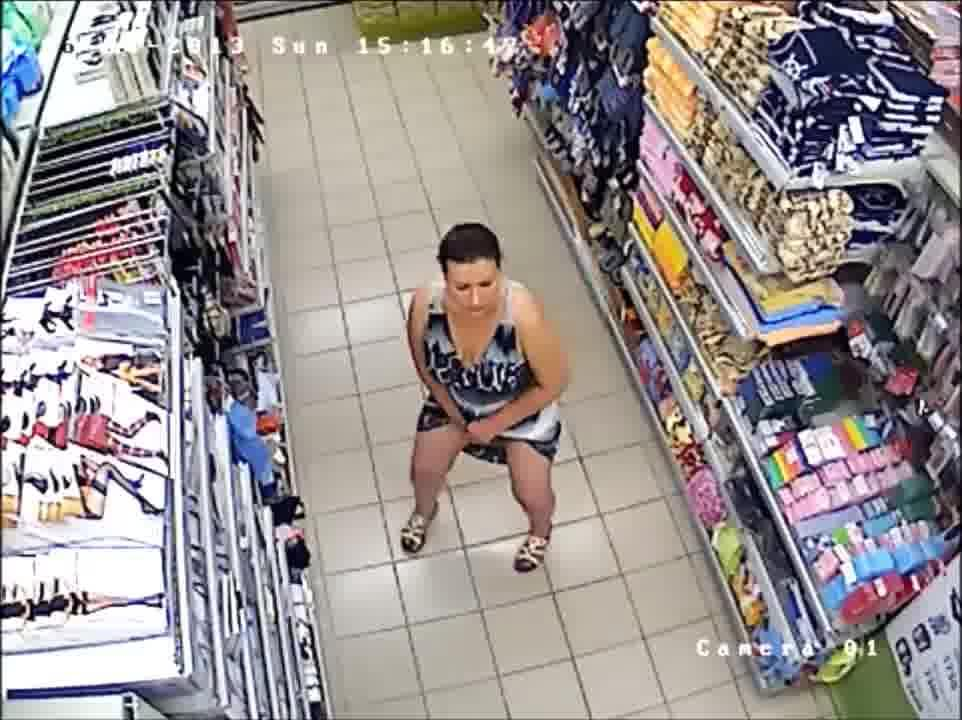shoplifting: (394, 210, 601, 618)
